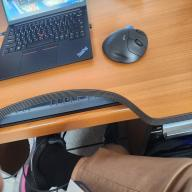mouse: (99, 18, 154, 69)
